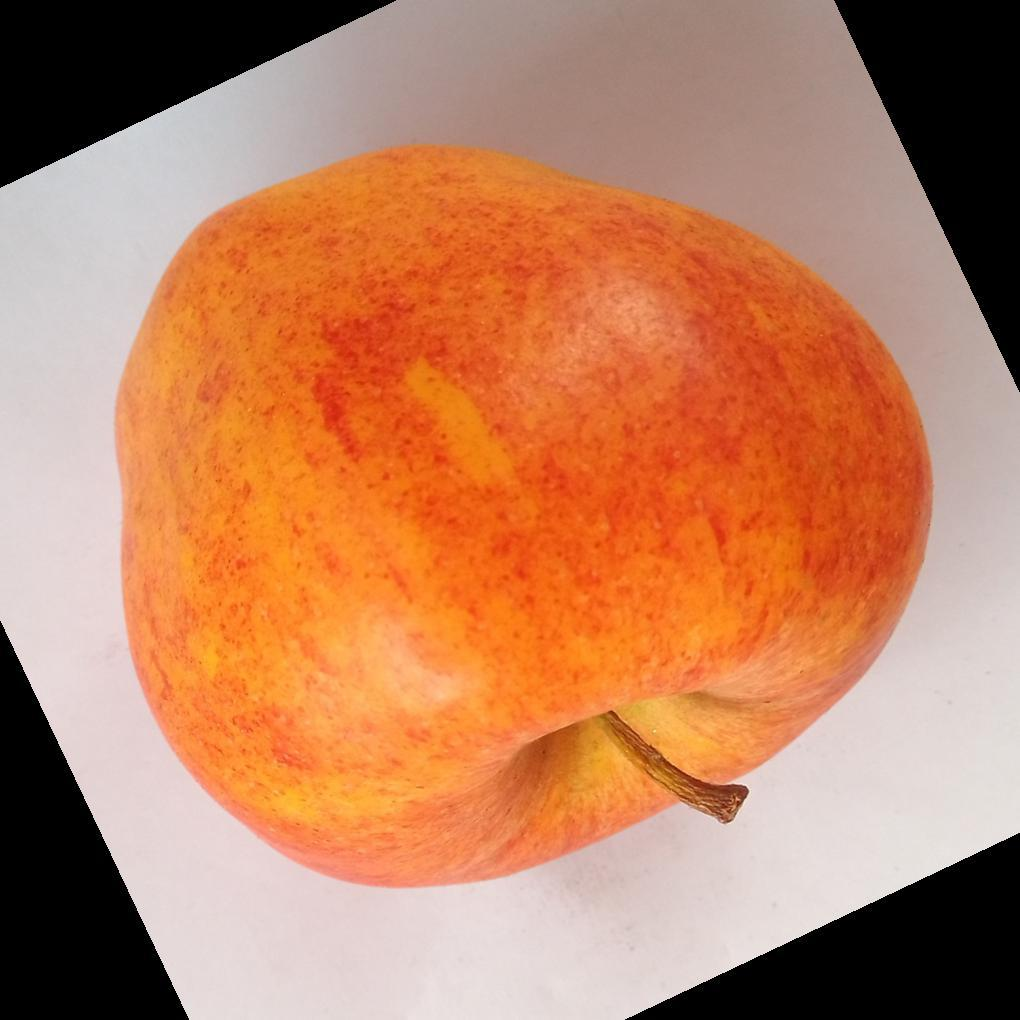FreshGuava: (111, 145, 937, 894)
